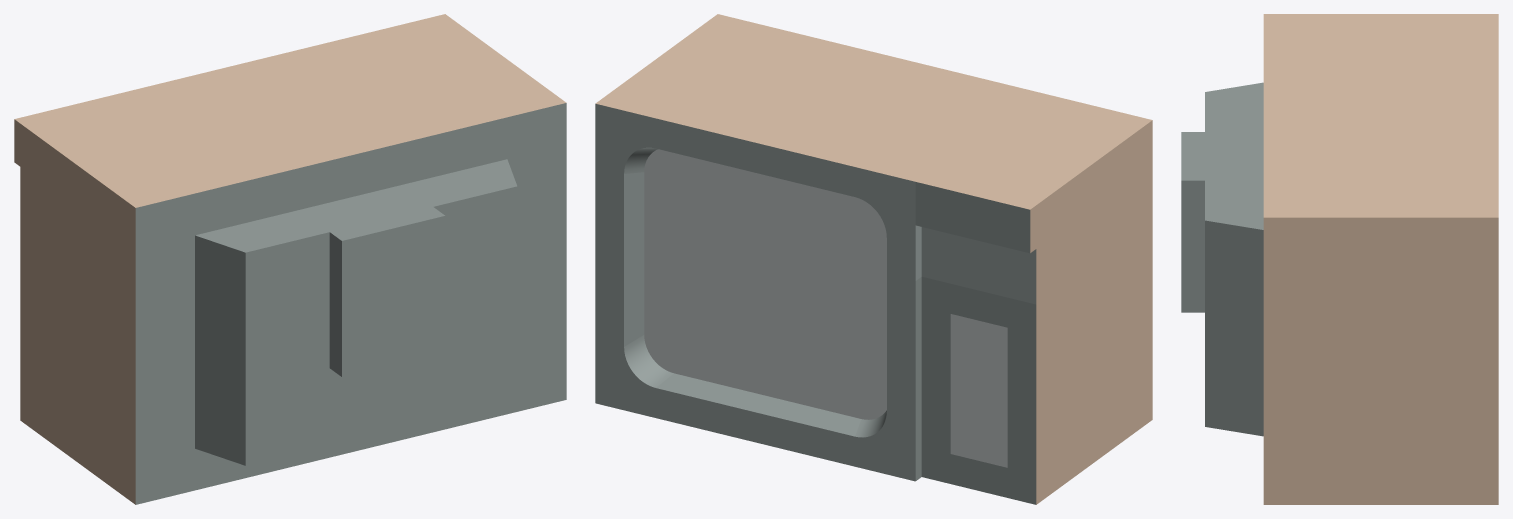
File: tv_old.glb
3 renders of one model, left to right at view 1: azimuth 30°, elevation 25°; view 2: azimuth 150°, elevation 25°; view 3: azimuth 270°, elevation 25°, orthographic. The views are drawn at different scales.
Visible parts, largest first — view 1: televisionVintage(Clone); view 2: televisionVintage(Clone); view 3: televisionVintage(Clone).
Boxes of the visible parts, <box> form: televisionVintage(Clone): <box>14,14,566,504</box>; televisionVintage(Clone): <box>595,14,1152,504</box>; televisionVintage(Clone): <box>1181,14,1498,504</box>.
Bounding box in the file's own units: 0.861 × 0.567 × 0.567.
